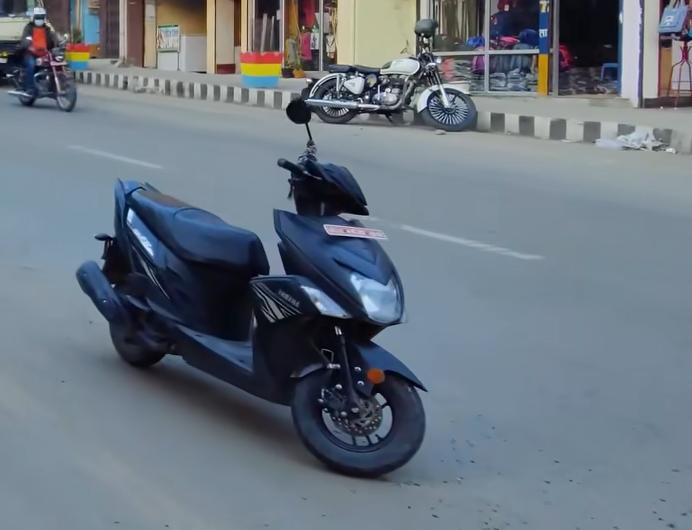bike: (307, 40, 480, 136), (7, 31, 82, 114)
scooter: (81, 155, 439, 479)
